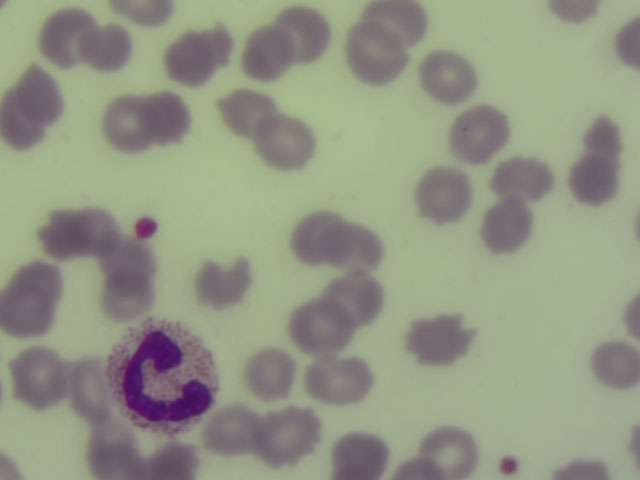Platelets: (131, 213, 162, 245), (497, 451, 524, 477)
RBC: (490, 152, 558, 204), (67, 354, 114, 426), (304, 355, 373, 403), (1, 84, 43, 158), (366, 1, 430, 48), (422, 425, 475, 480), (90, 425, 143, 480), (294, 211, 347, 265), (330, 220, 383, 274), (259, 113, 312, 167), (219, 85, 272, 139), (326, 272, 379, 326), (290, 298, 343, 352), (408, 314, 461, 368), (587, 339, 640, 393), (565, 152, 618, 206), (479, 201, 532, 255), (416, 169, 469, 223), (453, 107, 506, 161), (262, 408, 315, 462), (207, 401, 260, 455), (244, 344, 297, 398), (139, 93, 192, 147), (10, 350, 63, 404), (197, 254, 250, 308), (95, 270, 148, 324), (102, 233, 155, 287), (420, 50, 473, 104), (98, 97, 151, 151), (349, 31, 402, 85), (280, 5, 333, 59), (244, 28, 297, 82), (167, 32, 220, 86), (15, 69, 68, 123), (39, 11, 92, 65), (81, 22, 134, 76), (142, 437, 202, 480), (576, 110, 625, 160), (1, 288, 49, 338), (34, 208, 84, 256), (334, 433, 385, 480), (70, 205, 117, 253), (11, 259, 59, 303), (555, 450, 612, 480), (540, 1, 605, 27), (109, 1, 176, 26), (611, 290, 640, 344), (612, 16, 640, 71)
WBC: (110, 323, 222, 432)
